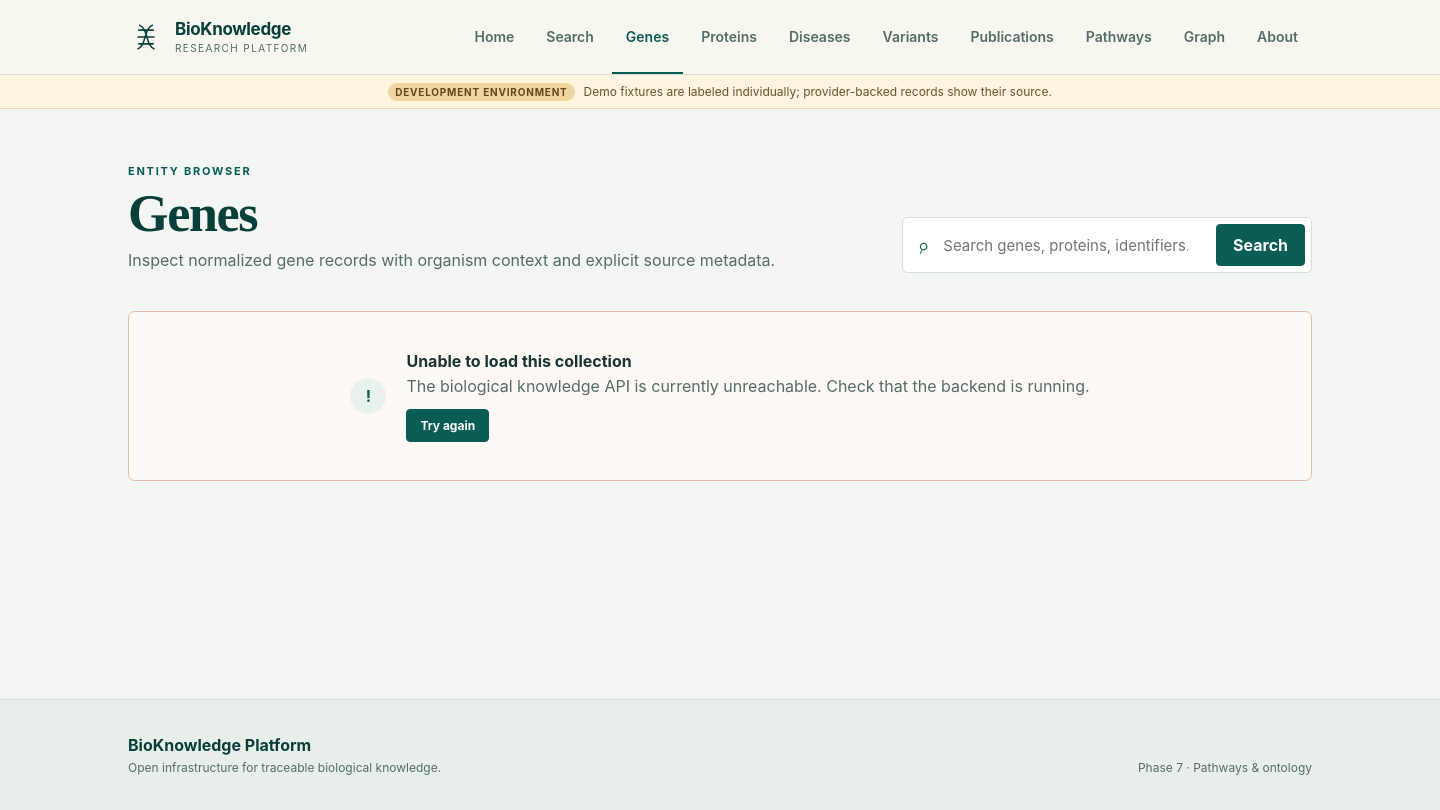
it: renders and retries an actionable API error
expect the text "Unable to load this collection" is shown: met, box x1=406 y1=351 x2=632 y2=371
Click the button "Try again" at (448, 425), box x1=406 y1=409 x2=489 y2=442
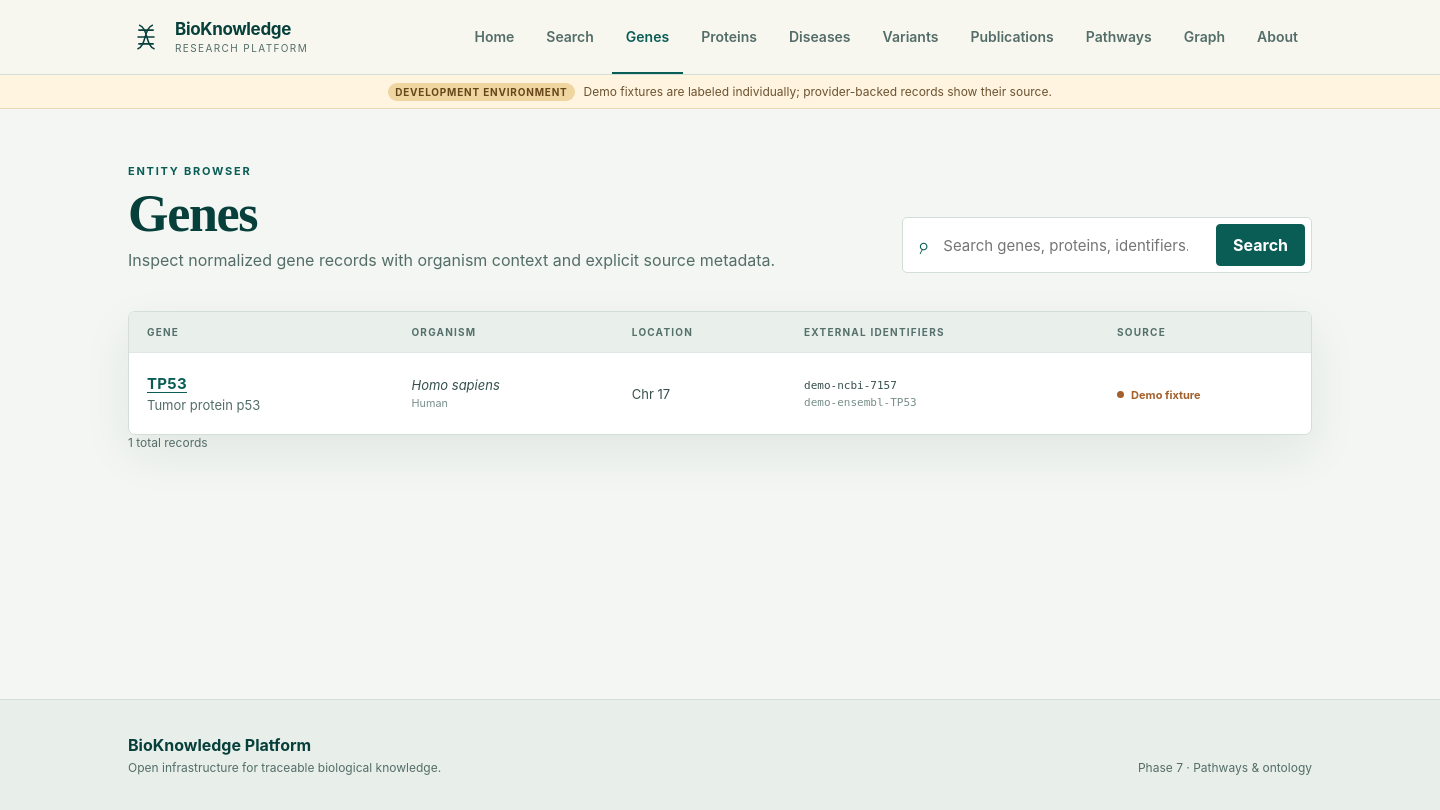
expect the link "TP53" is shown: met, box x1=147 y1=374 x2=187 y2=393
